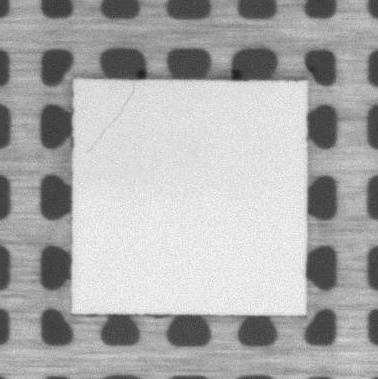DIE_CRACK: (84, 83, 137, 155)
